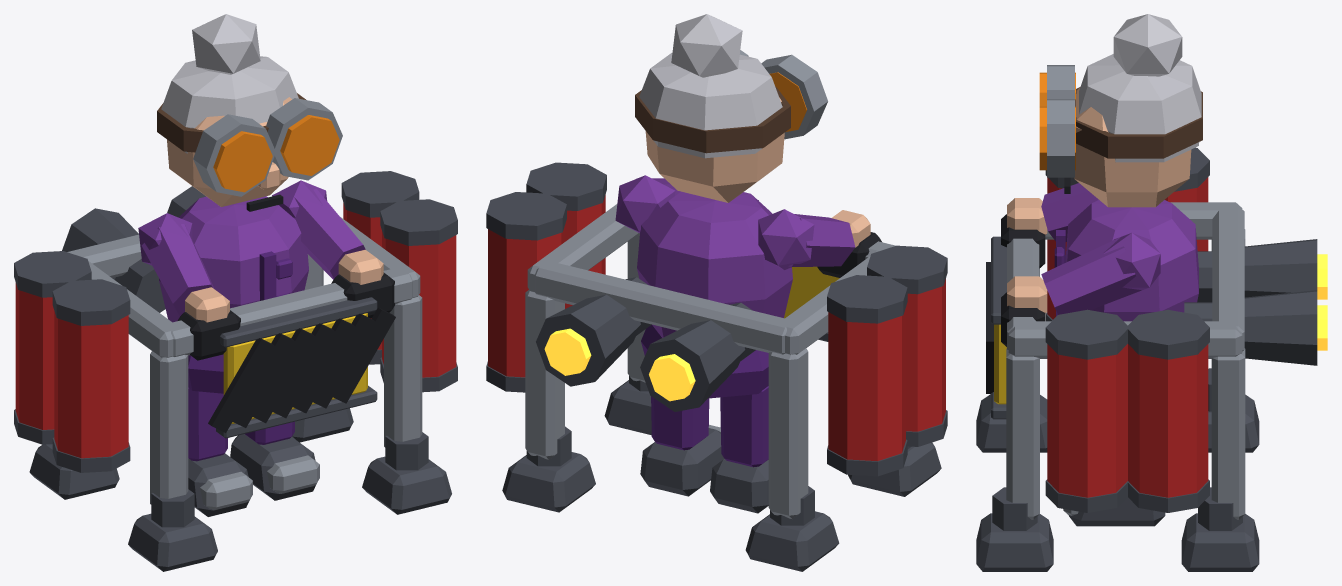
File: GrannyBoom.fbx
The picture shows the model from 3 angles, left to right: view 1: azimuth 30°, elevation 25°; view 2: azimuth 150°, elevation 25°; view 3: azimuth 270°, elevation 25°; orthographic projection. The views are drawn at different scales.
Parts seen in each view (by area): view 1: Canisters, WalkerFrame, CanisterCaps, WalkerFeet, HazardStripes, Hair, Torso, GoggleLens, GoggleRims, HazardFrame, RightArm, LeftArm (+15 smaller); view 2: WalkerFrame, Canisters, CanisterCaps, Torso, WalkerFeet, Hair, RocketNozzles, Head, RightArm, Goggles, LeftLegSlipper, RightLeg (+10 smaller); view 3: Canisters, WalkerFrame, WalkerFeet, Hair, CanisterCaps, RocketNozzles, Torso, LeftArm, Head, Goggles, GoggleRims, RightArm (+9 smaller).
Boxes of the visible parts, x1,y1,x2,y2 form: Canisters: (15,203,456,458); WalkerFrame: (67,217,422,504); CanisterCaps: (14,171,457,472); WalkerFeet: (29,408,451,571); HazardStripes: (208,307,395,432); Hair: (161,14,298,153); Torso: (159,196,308,322); GoggleLens: (213,115,339,192); GoggleRims: (193,98,342,196); HazardFrame: (216,297,377,438); RightArm: (138,213,214,316); LeftArm: (272,180,365,279); WalkerFrame: (525,204,895,518); Canisters: (488,195,945,461); CanisterCaps: (486,162,947,476); Torso: (637,191,792,337); WalkerFeet: (502,376,941,571); Hair: (639,14,782,158); RocketNozzles: (536,277,755,411); Head: (645,97,784,202); RightArm: (758,209,855,269); Goggles: (635,86,790,153); LeftLegSlipper: (640,428,724,496); RightLeg: (720,386,768,467); Canisters: (1047,177,1208,497); WalkerFrame: (1006,202,1245,519); WalkerFeet: (976,368,1259,571); Hair: (1079,14,1201,162); CanisterCaps: (1045,147,1209,512); RocketNozzles: (1184,239,1317,365); Torso: (1065,200,1198,321); LeftArm: (1041,233,1160,314); Head: (1074,88,1191,207); Goggles: (1075,87,1202,158); GoggleRims: (1047,65,1074,177); RightArm: (1041,183,1098,241).
Size of the model in its own units: 5.94 by 6.65 by 4.36.
